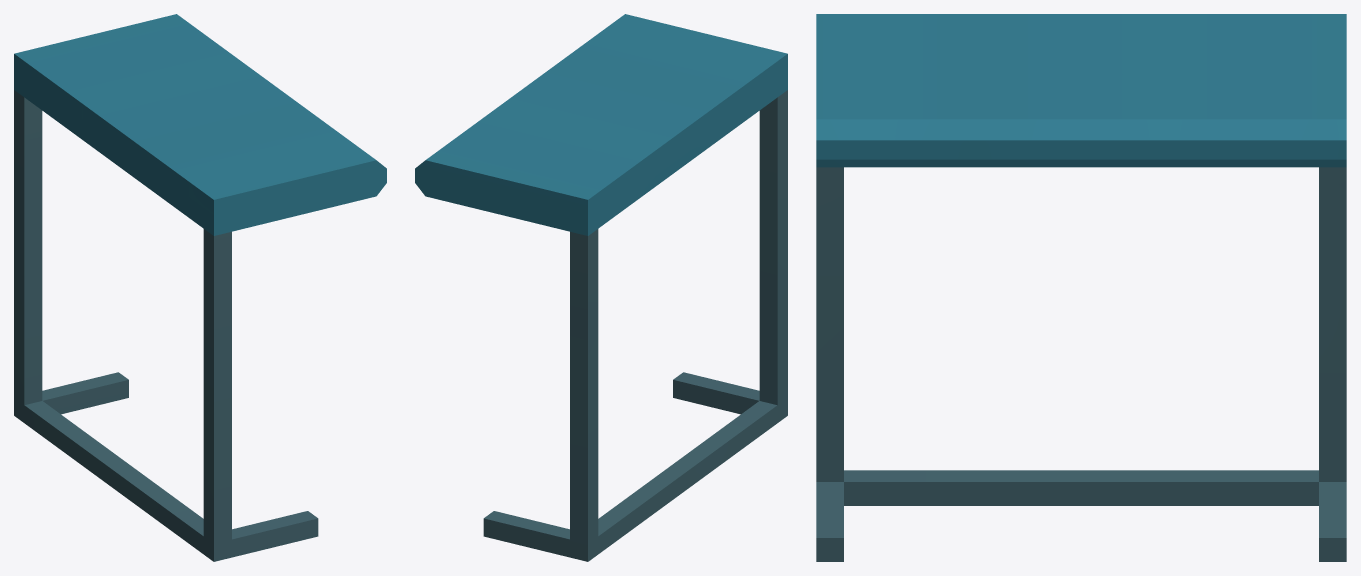
Rendered from table-window.glb.
3 views of the same model, side by side, from view 1: azimuth 30°, elevation 25°; view 2: azimuth 150°, elevation 25°; view 3: azimuth 270°, elevation 25° (orthographic). The views are drawn at different scales.
Parts seen in each view (by area): view 1: TableWindow.001; view 2: TableWindow.001; view 3: TableWindow.001.
Part boxes in pixels (x1=…): TableWindow.001: x1=14, y1=14, x2=386, y2=561; TableWindow.001: x1=415, y1=14, x2=787, y2=561; TableWindow.001: x1=816, y1=14, x2=1346, y2=561.
Bounding box in the file's own units: 0.5 × 1 × 1.
Materials: 1 (1 with a texture image).
